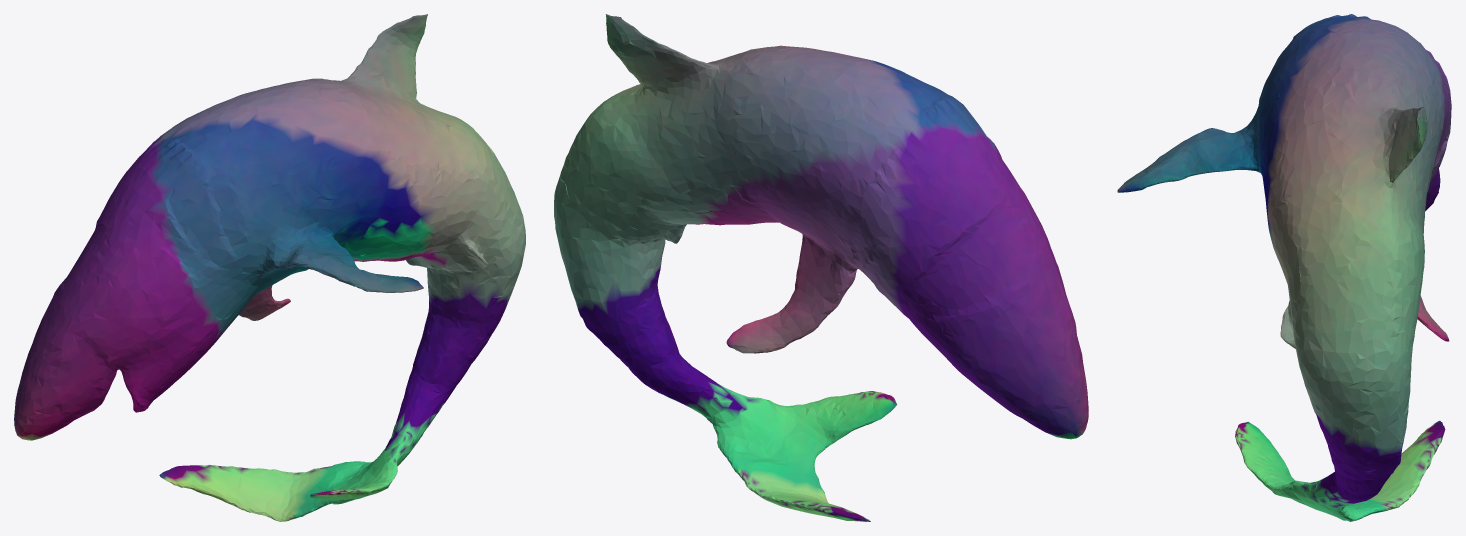
File: shark-2.off.obj
3 views of the same model, side by side, from view 1: azimuth 30°, elevation 25°; view 2: azimuth 150°, elevation 25°; view 3: azimuth 270°, elevation 25° (orthographic). The views are drawn at different scales.
Bounding box in the file's own units: 1.6 × 1.36 × 0.8635.
